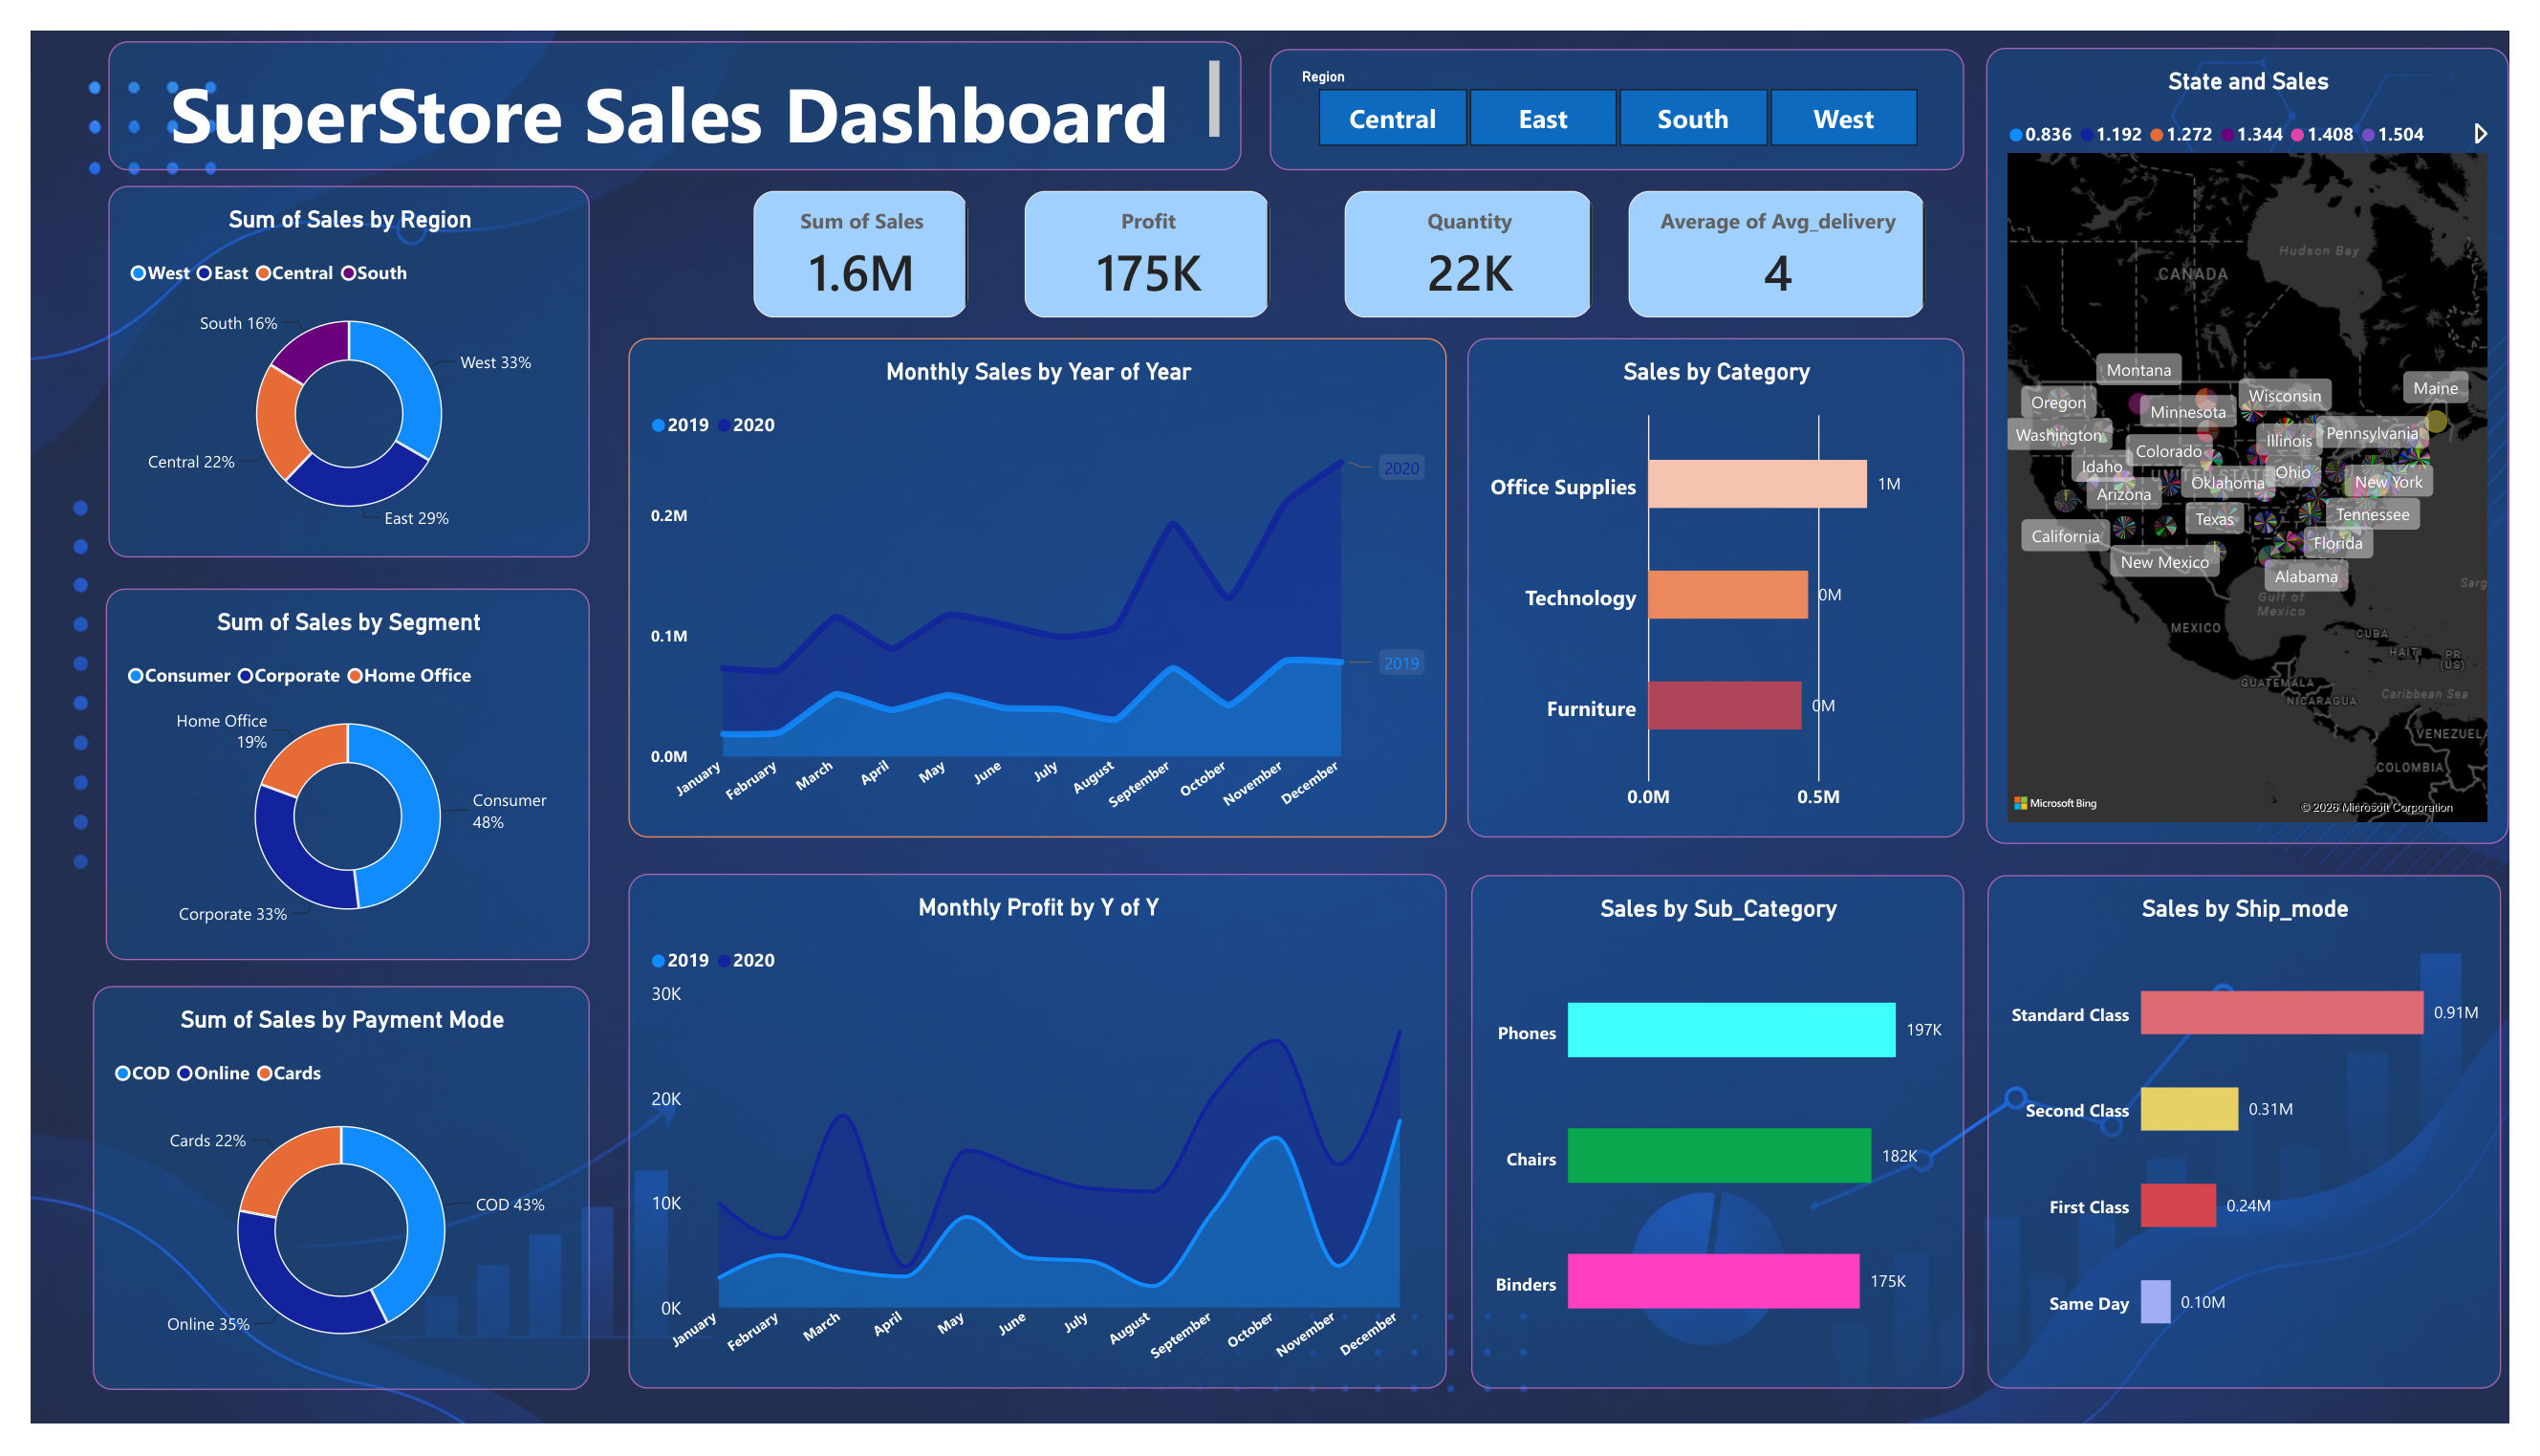

The page's visual inventory and layout, read from the dashboard file:
{"tool":"powerbi","page":{"name":"Page 1","canvas":[1920,1080],"ordinal":0},"visuals":[{"type":"clusteredBarChart","title":"Sales by Category","fields":{"Category":["SuperStore_Sales_Dataset.Category"],"Y":["Sum(SuperStore_Sales_Dataset.Sales)"]},"box":[1113.3,238.3,385,386.7],"z":0},{"type":"clusteredBarChart","title":"Sales by Sub_Category","fields":{"Category":["SuperStore_Sales_Dataset.Sub-Category"],"Y":["Sum(SuperStore_Sales_Dataset.Sales)"]},"box":[1116,654,382,398],"z":1000},{"type":"clusteredBarChart","title":"Sales by Ship_mode","fields":{"Category":["SuperStore_Sales_Dataset.Ship Mode"],"Y":["Sum(SuperStore_Sales_Dataset.Sales)"]},"box":[1516,654,398,398],"z":2000},{"type":"stackedAreaChart","title":"Monthly Sales by Year of Year","fields":{"Category":["SuperStore_Sales_Dataset.Order Date.Variation.Date Hierarchy.Month"],"Series":["SuperStore_Sales_Dataset.Order Date.Variation.Date Hierarchy.Year"],"Y":["Sum(SuperStore_Sales_Dataset.Sales)"]},"box":[463.3,238.3,633.3,386.7],"z":3000},{"type":"stackedAreaChart","title":"Monthly Profit by Y of Y","fields":{"Category":["SuperStore_Sales_Dataset.Order Date.Variation.Date Hierarchy.Month"],"Series":["SuperStore_Sales_Dataset.Order Date.Variation.Date Hierarchy.Year"],"Y":["Sum(SuperStore_Sales_Dataset.Profit)"]},"box":[463.3,653.3,633.3,398.3],"z":4000},{"type":"map","fields":{"Category":["SuperStore_Sales_Dataset.State"],"Series":["SuperStore_Sales_Dataset.Sales"]},"box":[1515,13.3,405,616.7],"z":5000},{"type":"donutChart","fields":{"Category":["SuperStore_Sales_Dataset.Segment"],"Y":["Sum(SuperStore_Sales_Dataset.Sales)"]},"box":[58.3,431.7,375,288.3],"z":6000},{"type":"donutChart","fields":{"Category":["SuperStore_Sales_Dataset.Payment Mode"],"Y":["Sum(SuperStore_Sales_Dataset.Sales)"]},"box":[48.3,740,385,313.3],"z":7000},{"type":"slicer","fields":{"Values":["SuperStore_Sales_Dataset.Region"]},"box":[960,14,538,94],"z":8000},{"type":"textbox","box":[60,8.3,878.3,100],"z":9000},{"type":"cardVisual","fields":{"Data":["Sum(SuperStore_Sales_Dataset.Sales)"]},"box":[560,124,166,98],"z":10000},{"type":"cardVisual","fields":{"Data":["Sum(SuperStore_Sales_Dataset.Quantity)"]},"box":[1018,124,192,98],"z":11000},{"type":"cardVisual","fields":{"Data":["Sum(SuperStore_Sales_Dataset.Profit)"]},"box":[770,124,190,98],"z":12000},{"type":"cardVisual","fields":{"Data":["Avg(SuperStore_Sales_Dataset.Avg_delivery)"]},"box":[1238,124,230,98],"z":13000},{"type":"donutChart","fields":{"Category":["SuperStore_Sales_Dataset.Region"],"Y":["Sum(SuperStore_Sales_Dataset.Sales)"]},"box":[60,120,373.3,288.3],"z":14000}]}

Visuals, with their boxes in screenshot pixels (x1, y1, x2, y2), scaled from the page's 1920x1080 canvas onto the 2540x1456 screenshot:
"Sales by Category" clusteredBarChart: {"x1": 1473, "y1": 321, "x2": 1982, "y2": 842}
"Sales by Sub_Category" clusteredBarChart: {"x1": 1476, "y1": 881, "x2": 1982, "y2": 1419}
"Sales by Ship_mode" clusteredBarChart: {"x1": 2006, "y1": 881, "x2": 2532, "y2": 1419}
"Monthly Sales by Year of Year" stackedAreaChart: {"x1": 613, "y1": 321, "x2": 1451, "y2": 842}
"Monthly Profit by Y of Y" stackedAreaChart: {"x1": 613, "y1": 880, "x2": 1451, "y2": 1418}
map - SuperStore_Sales_Dataset.State x SuperStore_Sales_Dataset.Sales: {"x1": 2005, "y1": 18, "x2": 2539, "y2": 849}
donutChart - SuperStore_Sales_Dataset.Segment x Sum(SuperStore_Sales_Dataset.Sales): {"x1": 77, "y1": 582, "x2": 574, "y2": 970}
donutChart - SuperStore_Sales_Dataset.Payment Mode x Sum(SuperStore_Sales_Dataset.Sales): {"x1": 64, "y1": 998, "x2": 574, "y2": 1420}
slicer - SuperStore_Sales_Dataset.Region: {"x1": 1270, "y1": 19, "x2": 1982, "y2": 145}
textbox: {"x1": 79, "y1": 11, "x2": 1241, "y2": 146}
cardVisual - Sum(SuperStore_Sales_Dataset.Sales): {"x1": 741, "y1": 167, "x2": 961, "y2": 299}
cardVisual - Sum(SuperStore_Sales_Dataset.Quantity): {"x1": 1347, "y1": 167, "x2": 1600, "y2": 299}
cardVisual - Sum(SuperStore_Sales_Dataset.Profit): {"x1": 1019, "y1": 167, "x2": 1270, "y2": 299}
cardVisual - Avg(SuperStore_Sales_Dataset.Avg_delivery): {"x1": 1638, "y1": 167, "x2": 1942, "y2": 299}
donutChart - SuperStore_Sales_Dataset.Region x Sum(SuperStore_Sales_Dataset.Sales): {"x1": 79, "y1": 162, "x2": 574, "y2": 551}
